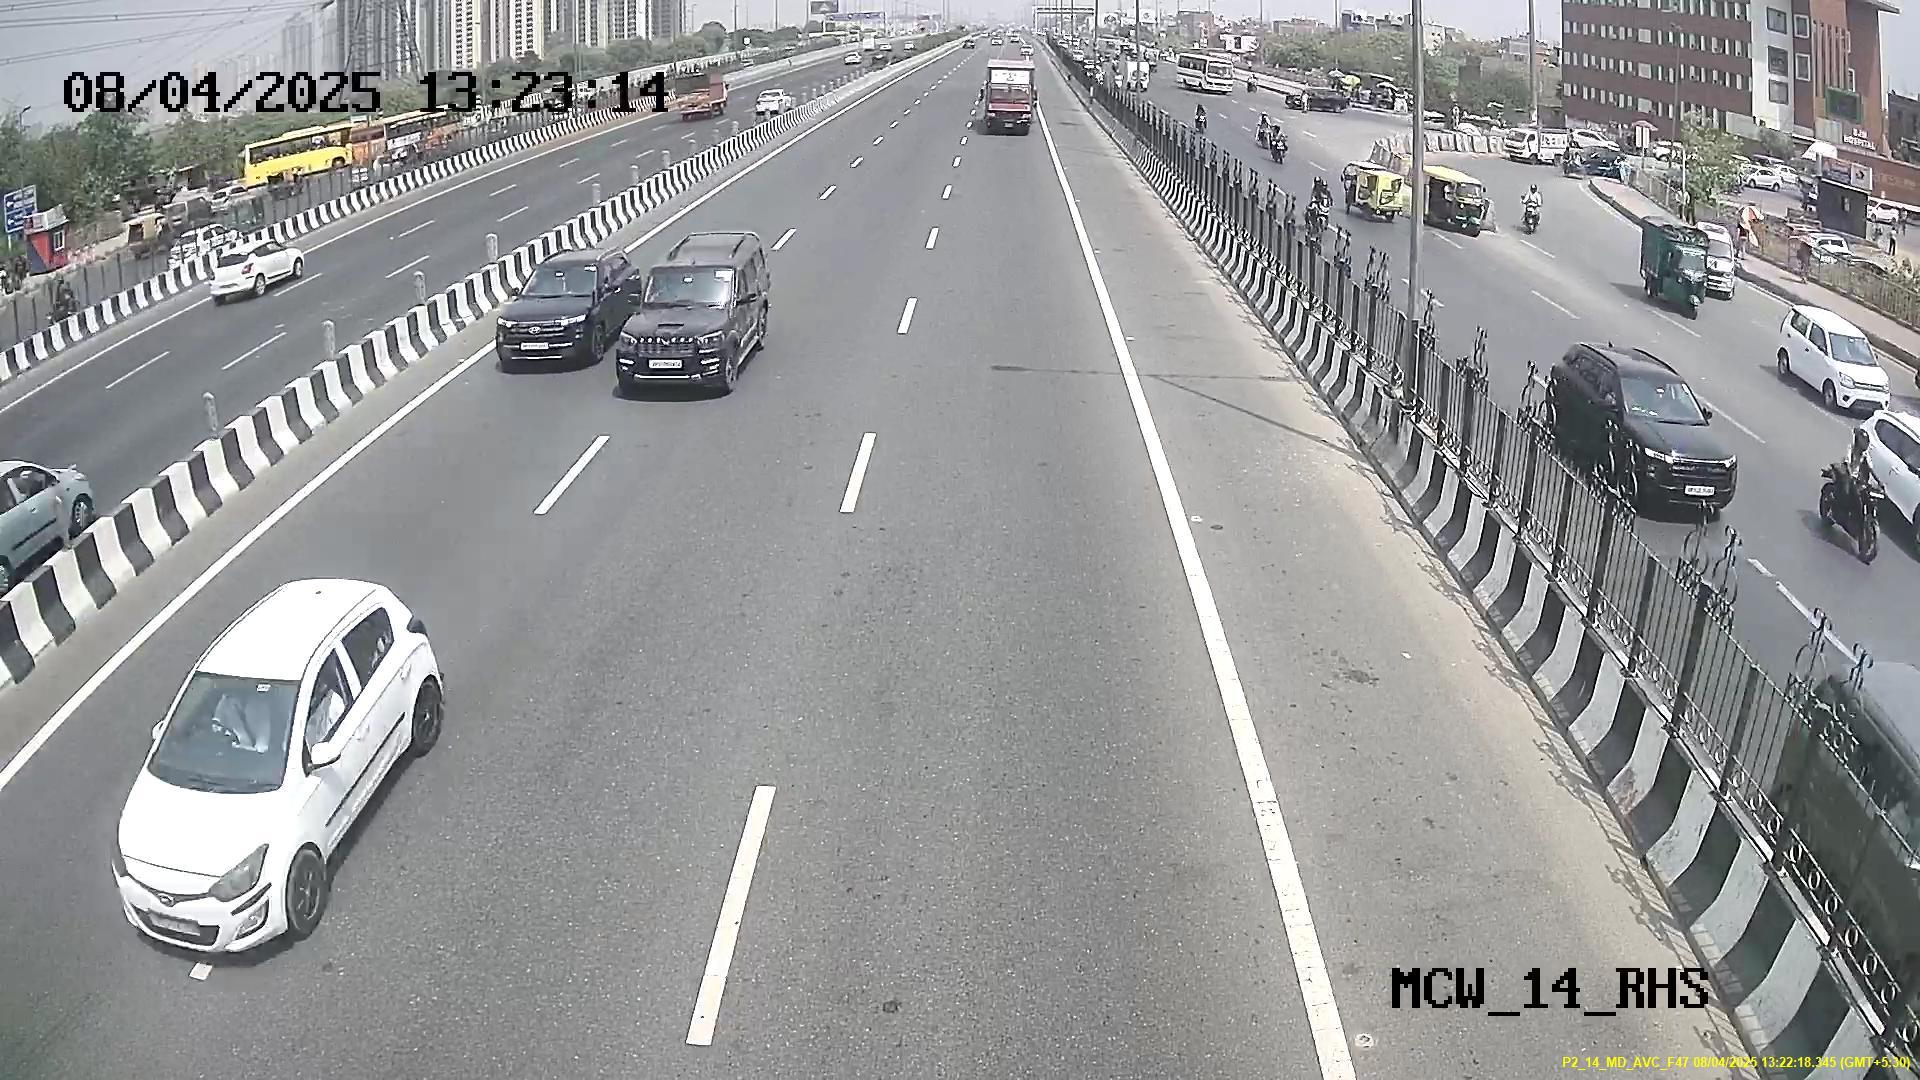car: (107, 644, 365, 964), (620, 244, 749, 397), (488, 249, 616, 371)
